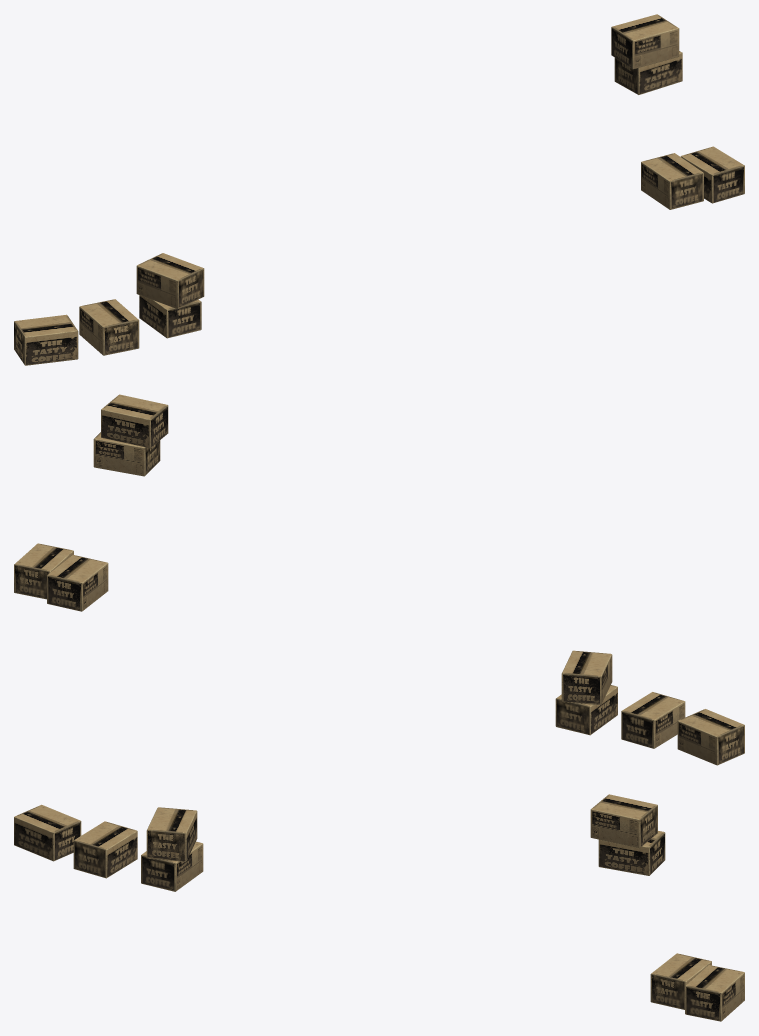
The picture shows the model from 3 angles, top to bottom: view 1: azimuth 30°, elevation 25°; view 2: azimuth 150°, elevation 25°; view 3: azimuth 330°, elevation 25°; orthographic projection.
Parts seen in each view (by area): view 1: Bar5to2_004_lambert20SG_0; view 2: Bar5to2_004_lambert20SG_0; view 3: Bar5to2_004_lambert20SG_0.
Boxes of the visible parts, x1,y1,x2,y2 form: Bar5to2_004_lambert20SG_0: (14,14,744,365); Bar5to2_004_lambert20SG_0: (14,394,744,765); Bar5to2_004_lambert20SG_0: (14,794,744,1021).
Bounding box in the file's own units: 5.98 × 1.54 × 0.5801.
1 material, 1 textured.
